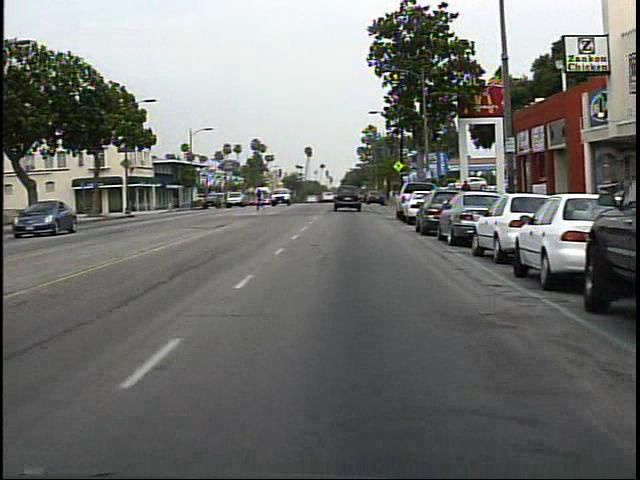person: (457, 176, 477, 218), (253, 183, 270, 214)
